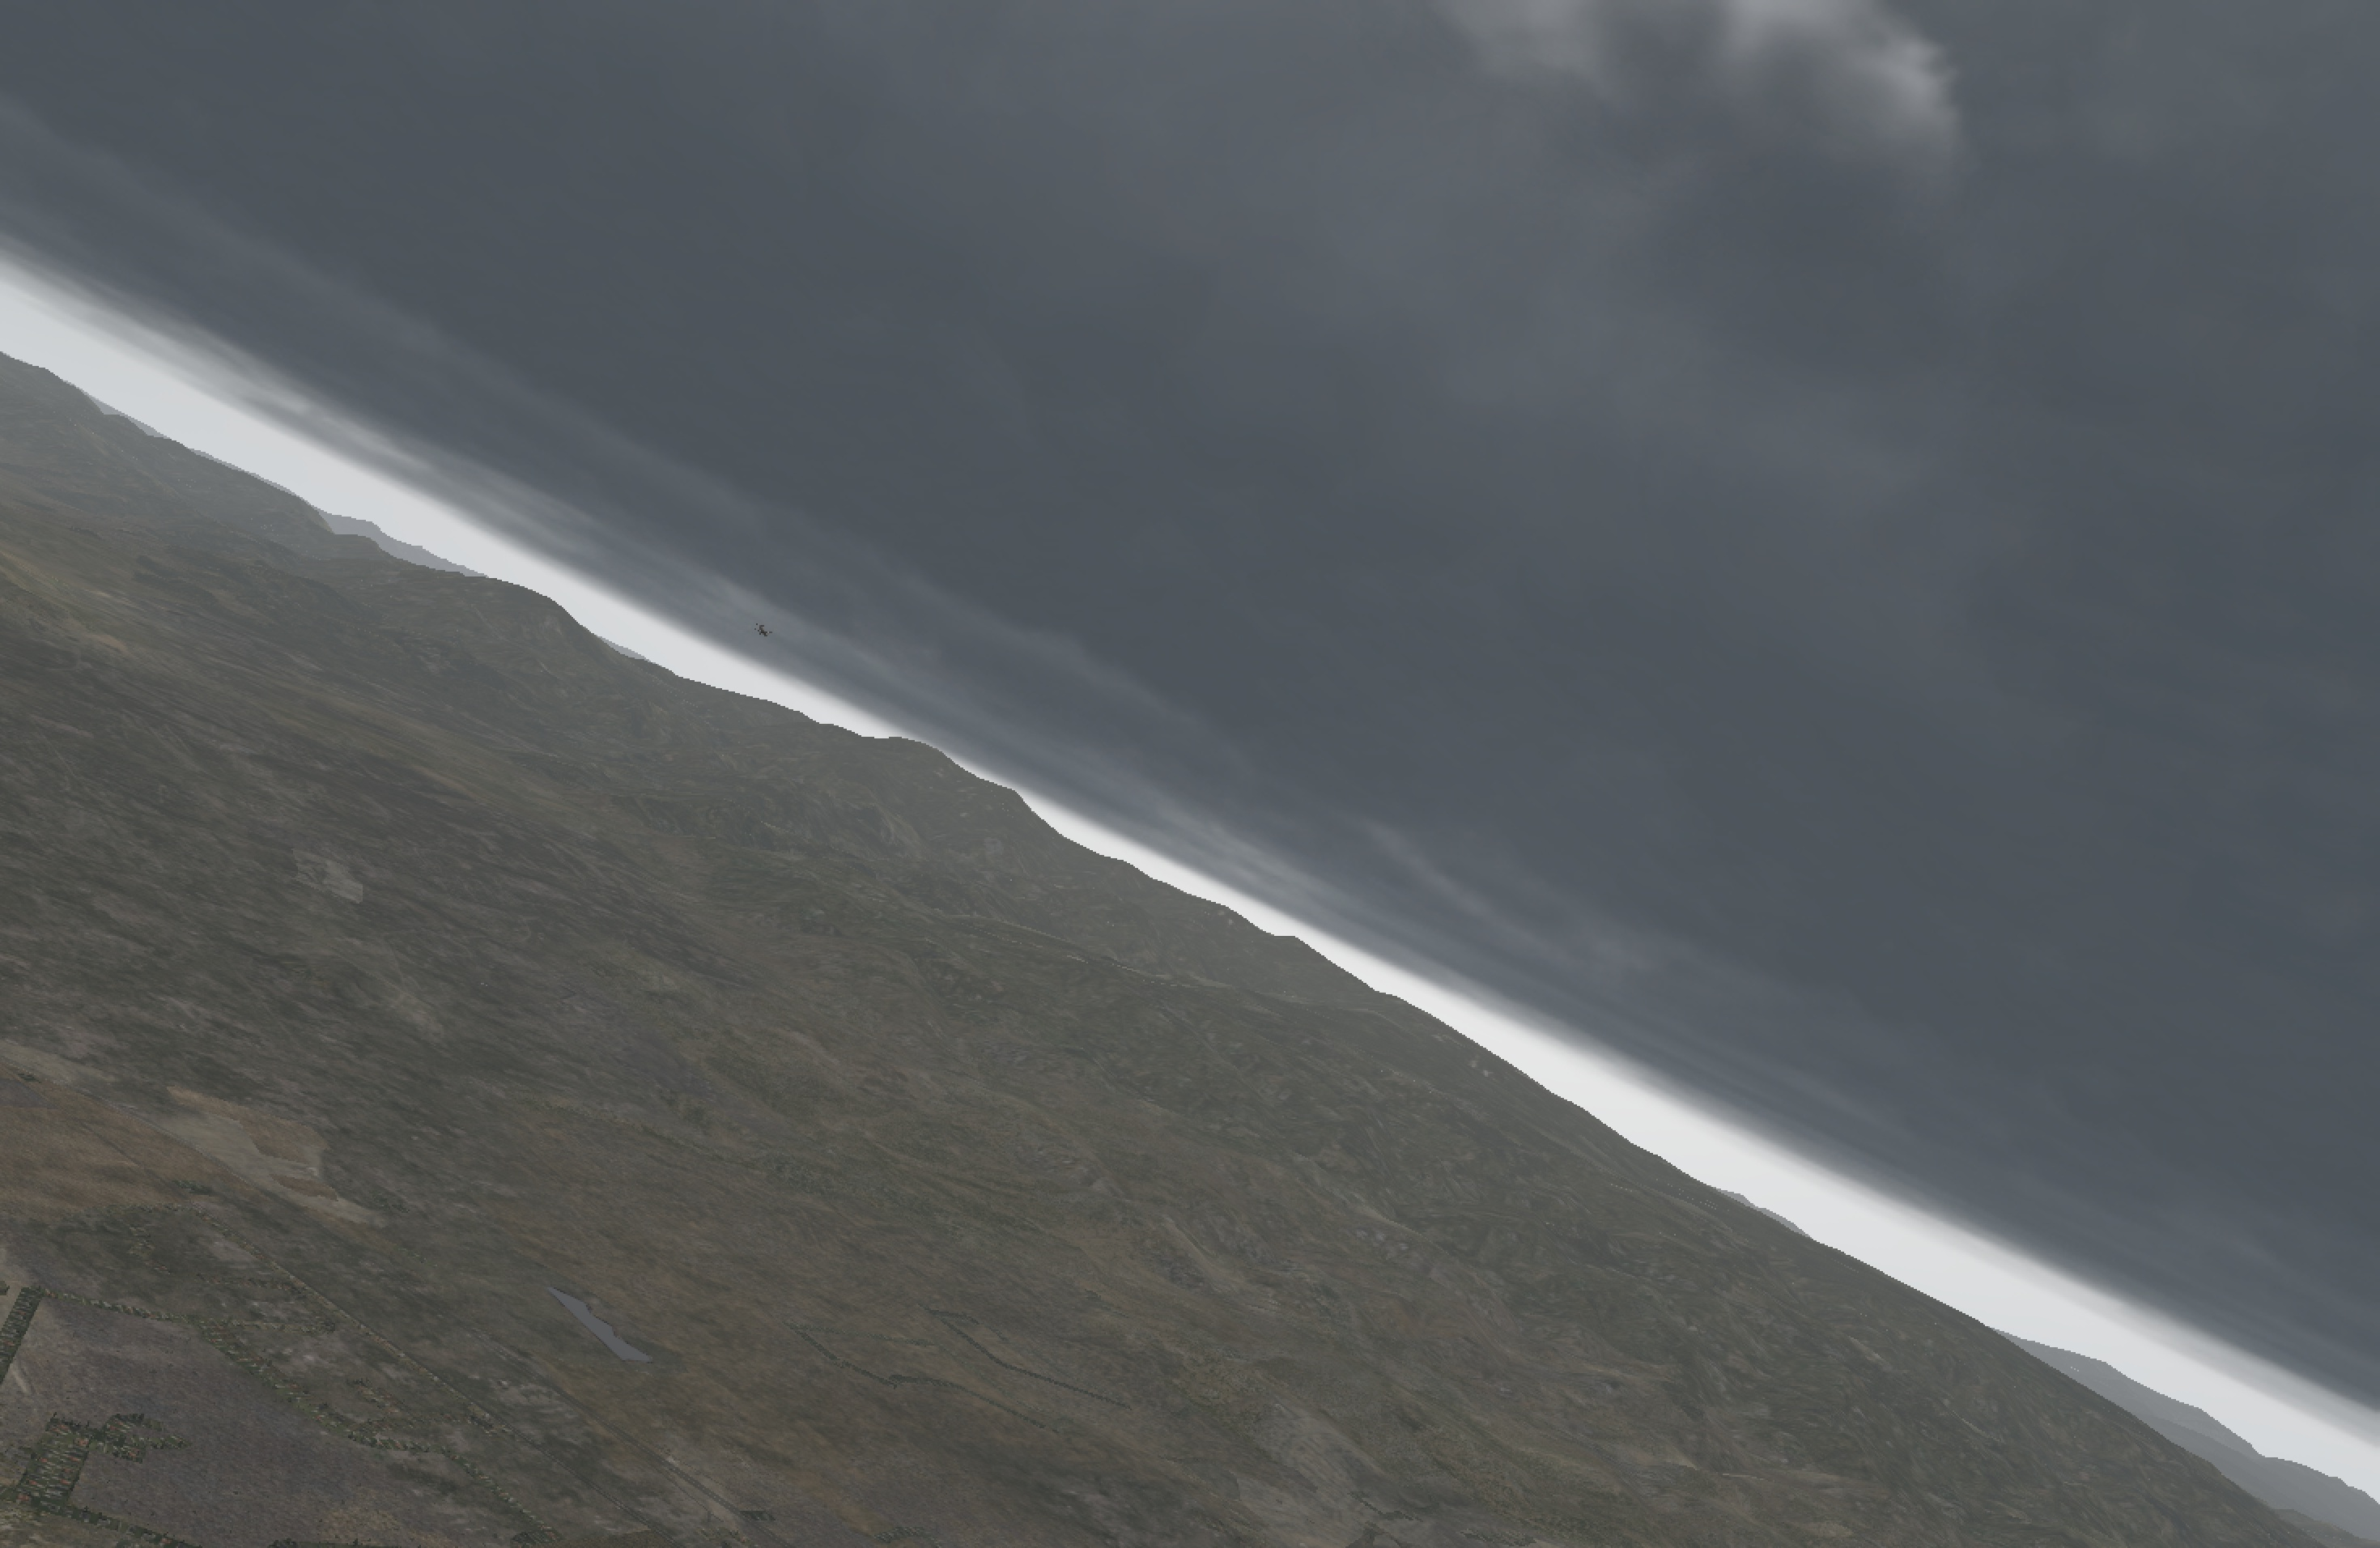aircraft: (748, 626, 779, 639)
